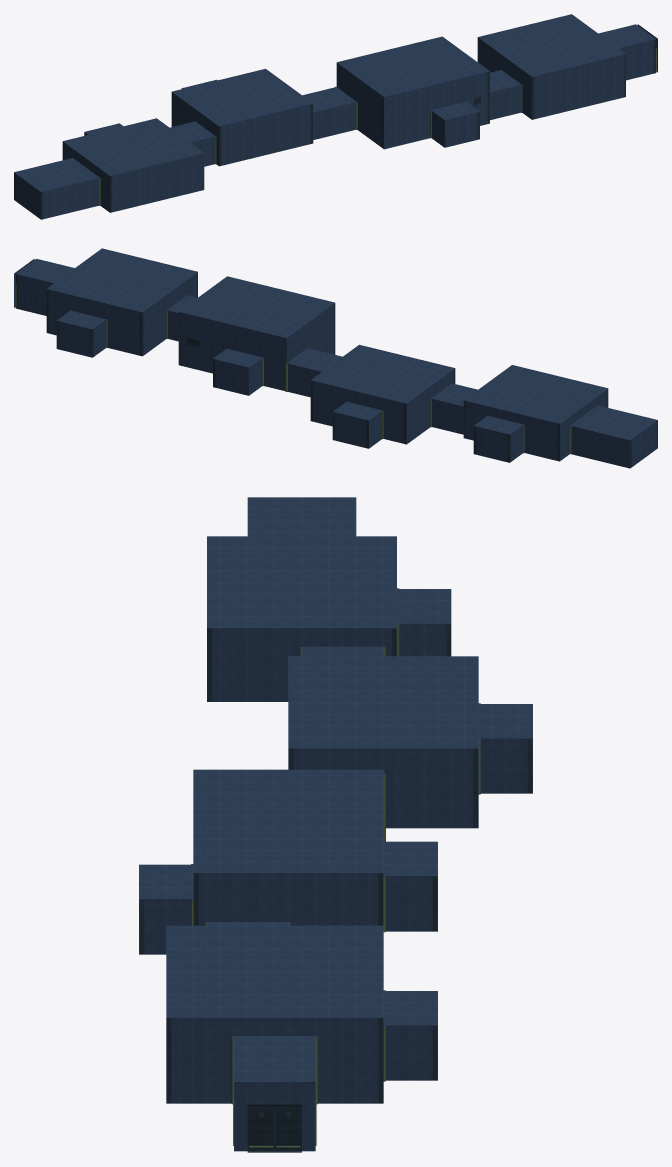
The model's file is calibration-lab.glb.
3 views of the same model, one above another, from view 1: azimuth 30°, elevation 25°; view 2: azimuth 150°, elevation 25°; view 3: azimuth 270°, elevation 25° (orthographic). The views are drawn at different scales.
Visible parts, largest first — view 1: room4_Ceiling, room3_Ceiling, room1_Ceiling, room2_Ceiling, start_Ceiling, room4_equip_09, room3_Header_to_w4, exitc_Ceiling, conB_Ceiling, room3_vent_06, room3_panel_08, room3_ivory_07 (+44 smaller); view 2: room4_Ceiling, room3_Ceiling, room2_Ceiling, room1_Ceiling, start_Ceiling, room3_Header_to_w3, exitc_Ceiling, conB_Ceiling, room3_panel_16, room3_vent_14, room3_ivory_15, room3_vent_12 (+44 smaller); view 3: room4_Ceiling, room3_Ceiling, room2_Ceiling, room1_Ceiling, start_Ceiling, room3_Header_to_conC, exitc_Ceiling, Door_Exit_Frame, room1_emblem_19, room3_target_19, room2_Machinery_2, room2_Machinery_3 (+28 smaller).
Boxes of the visible parts, x1,y1,x2,y2 form: room4_Ceiling: (478, 14, 625, 76); room3_Ceiling: (337, 36, 489, 96); room1_Ceiling: (63, 118, 203, 175); room2_Ceiling: (172, 68, 312, 126); start_Ceiling: (14, 158, 99, 191); room4_equip_09: (579, 59, 602, 108); room3_Header_to_w4: (431, 77, 466, 110); exitc_Ceiling: (598, 24, 655, 48); conB_Ceiling: (302, 87, 356, 112); room3_vent_06: (407, 88, 419, 143); room3_panel_08: (384, 94, 395, 149); room3_ivory_07: (396, 91, 407, 146); room4_Ceiling: (47, 248, 197, 312); room3_Ceiling: (179, 276, 334, 337); room2_Ceiling: (311, 344, 454, 403); room1_Ceiling: (464, 365, 607, 423); start_Ceiling: (570, 405, 657, 440); room3_Header_to_w3: (226, 323, 262, 357); exitc_Ceiling: (16, 259, 74, 283); conB_Ceiling: (287, 348, 342, 371); room3_panel_16: (178, 312, 190, 367); room3_vent_14: (202, 318, 214, 373); room3_ivory_15: (190, 315, 202, 370); room3_vent_12: (262, 332, 274, 388); room4_Ceiling: (166, 925, 383, 1017); room3_Ceiling: (193, 769, 383, 872); room2_Ceiling: (288, 656, 478, 748); room1_Ceiling: (207, 536, 396, 627); start_Ceiling: (247, 497, 356, 536); room3_Header_to_conC: (207, 873, 288, 921); exitc_Ceiling: (234, 1036, 315, 1081); Door_Exit_Frame: (233, 1082, 316, 1152); room1_emblem_19: (247, 628, 301, 701); room3_target_19: (315, 873, 369, 925); room2_Machinery_2: (424, 748, 451, 828); room2_Machinery_3: (397, 748, 424, 828).
Size of the model in its own units: 105 by 8.5 by 29.
3 materials, 3 textured.
